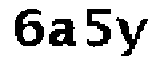5: (82, 5, 115, 49)
6: (11, 5, 46, 50)
a: (46, 15, 79, 51)
y: (115, 13, 150, 60)
